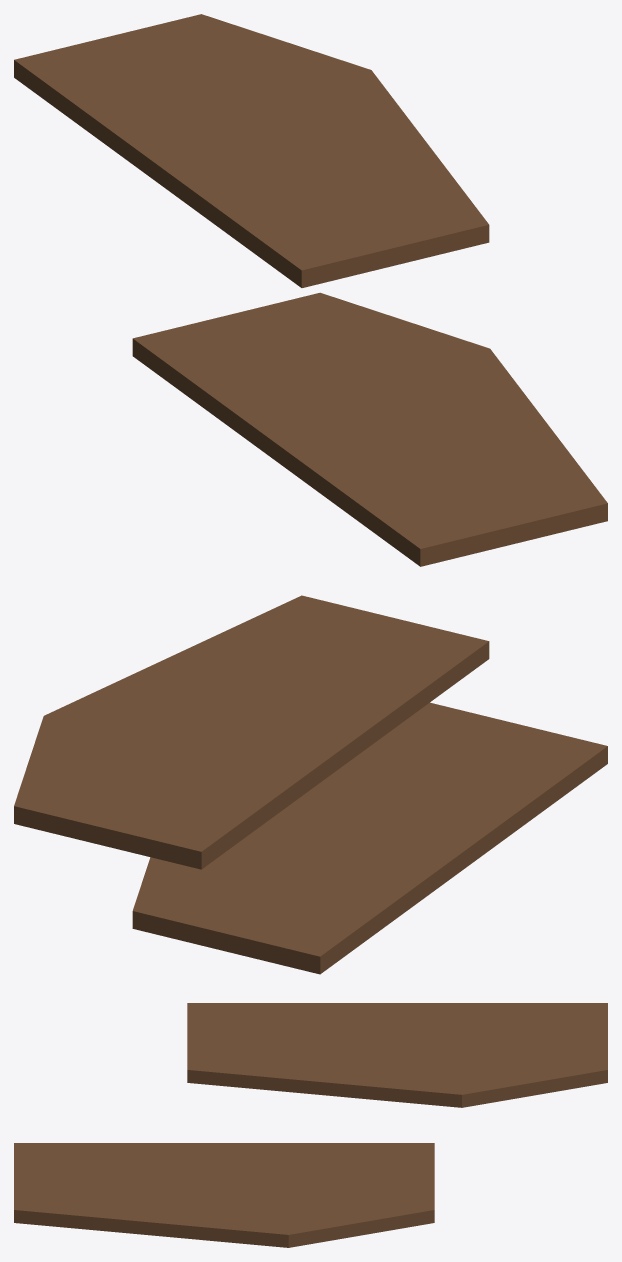
File: Shelf_8.fbx
The picture shows the model from 3 angles, top to bottom: view 1: azimuth 30°, elevation 25°; view 2: azimuth 150°, elevation 25°; view 3: azimuth 270°, elevation 25°; orthographic projection. The views are drawn at different scales.
Parts seen in each view (by area): view 1: Shelf_8; view 2: Shelf_8; view 3: Shelf_8.
Part boxes in pixels (box(x1,y1,x2,y2)): Shelf_8: box(14, 14, 607, 566); Shelf_8: box(14, 595, 607, 974); Shelf_8: box(14, 1003, 607, 1247).
Bounding box in the file's own units: 49.58 × 135 × 38.53.
